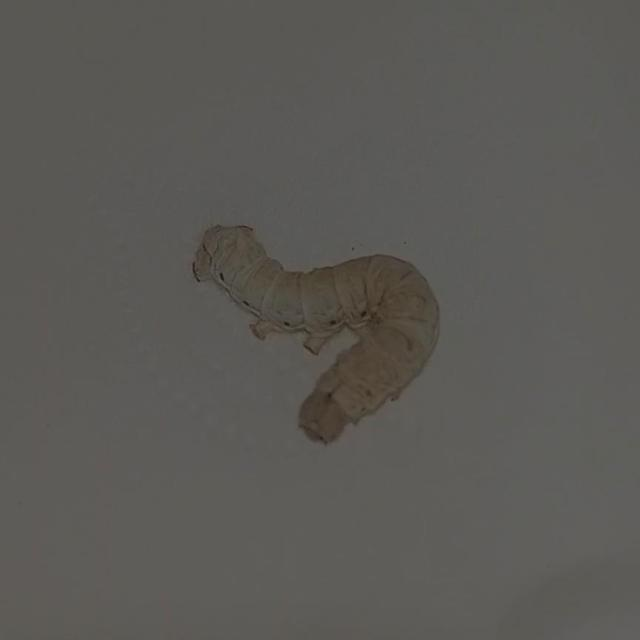Healthy: (169, 182, 465, 472)
